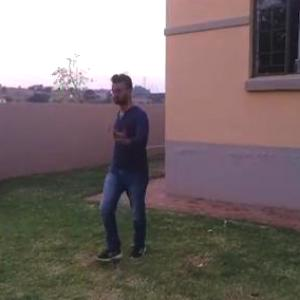takeoff-hand: (103, 114, 134, 148)
